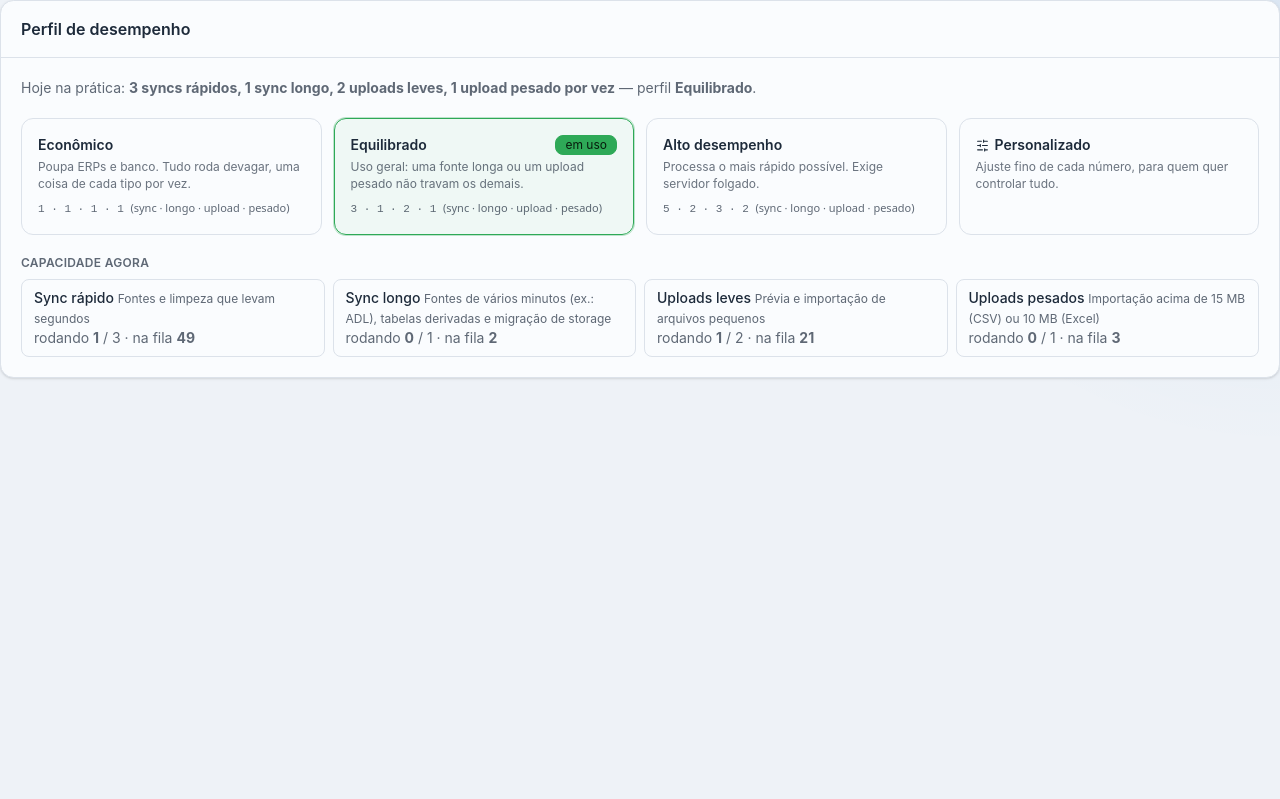
Test: WorkerPresets › clicar no perfil em uso, ou em Cancelar, fecha o painel sem alterar nada
Click the button "Alto desempenho". click: (796, 176)
box: 646,118 -> 946,234
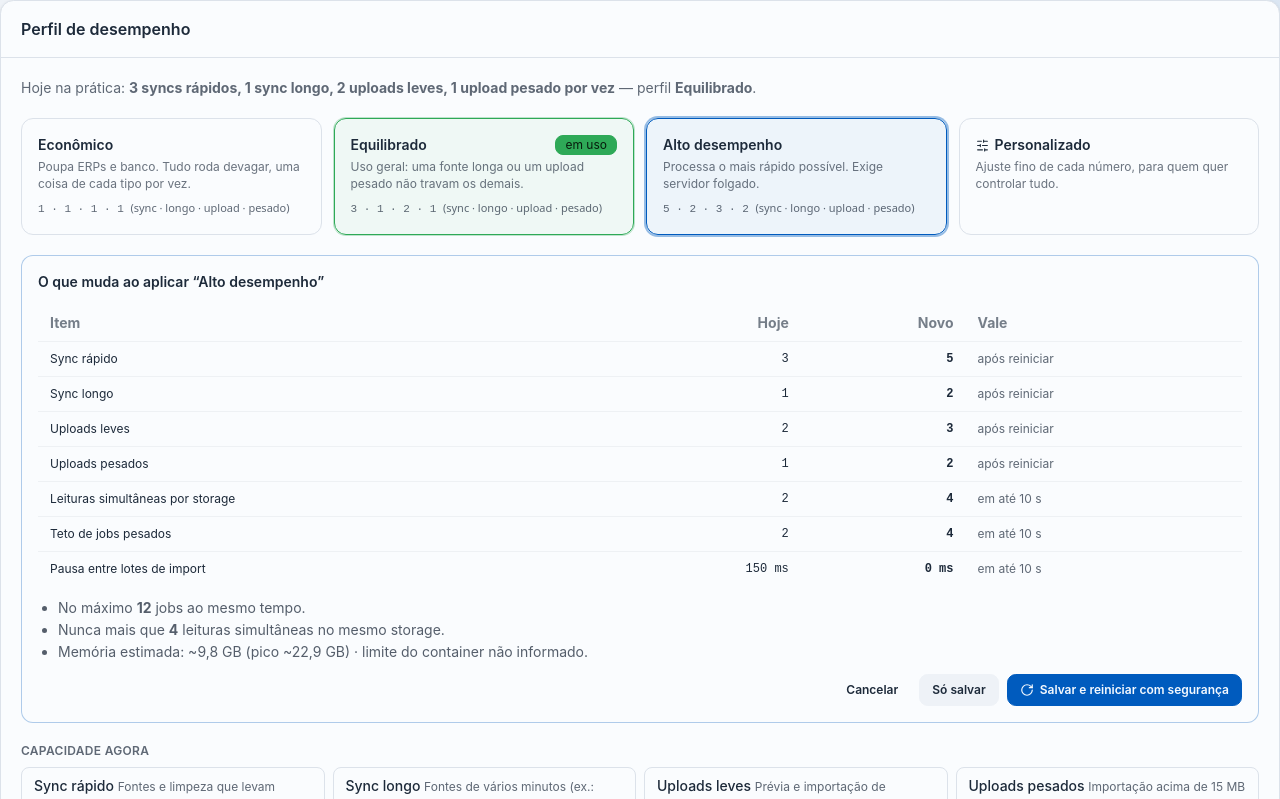
Now the heading "O que muda ao aplicar “Alto desempenho”" is shown, box 38,272 -> 324,290
Click the button "Cancelar". click: (872, 690)
box: 833,674 -> 911,706
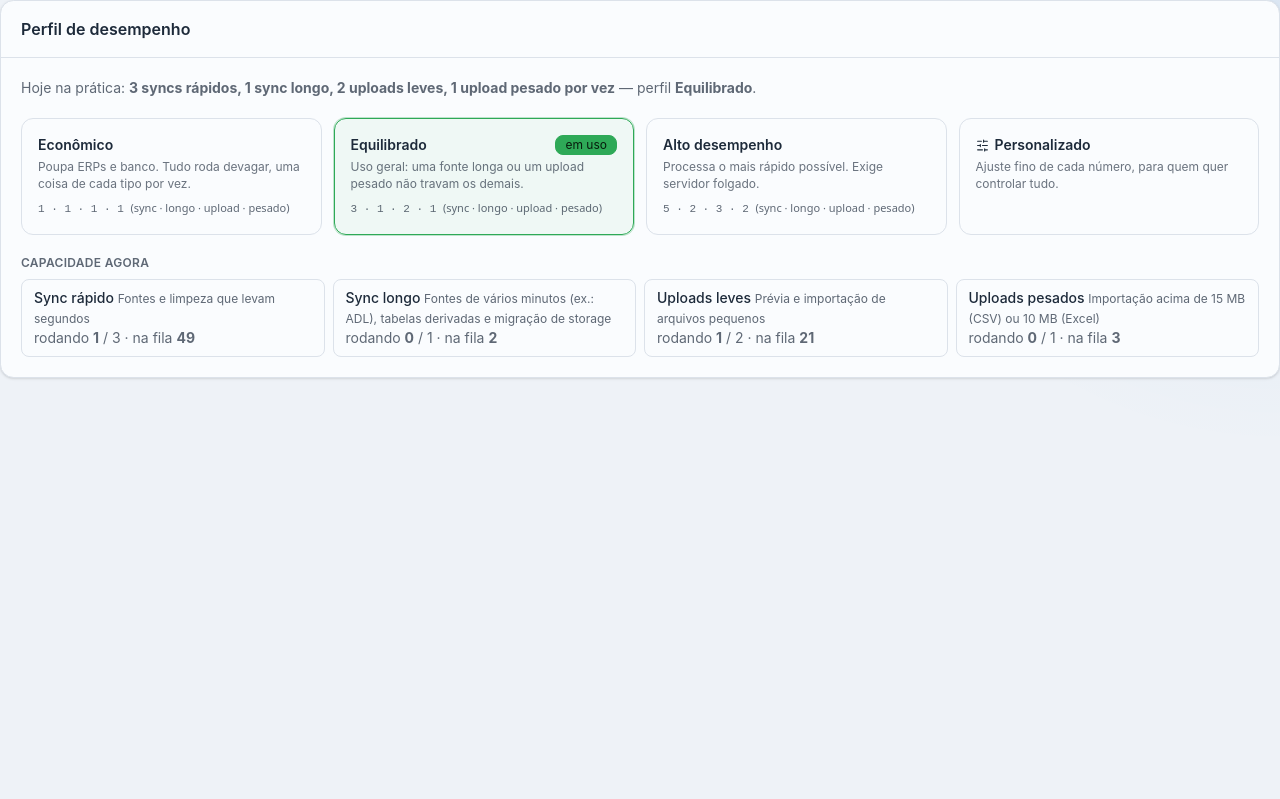
Now the heading "O que muda ao aplicar" is gone
